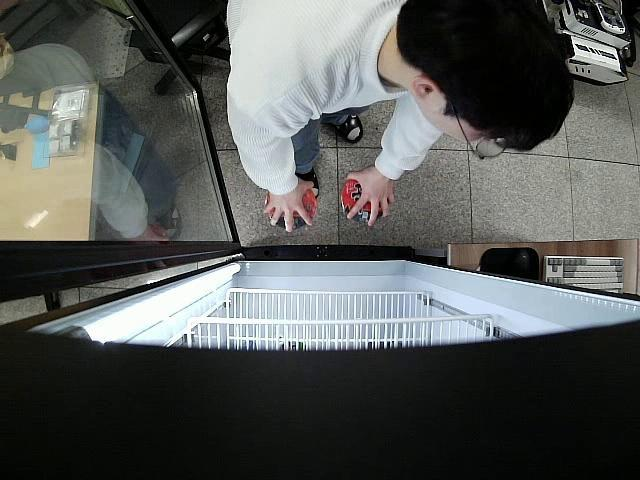01_ShinRamen_L: (264, 188, 314, 232), (340, 180, 384, 224)
